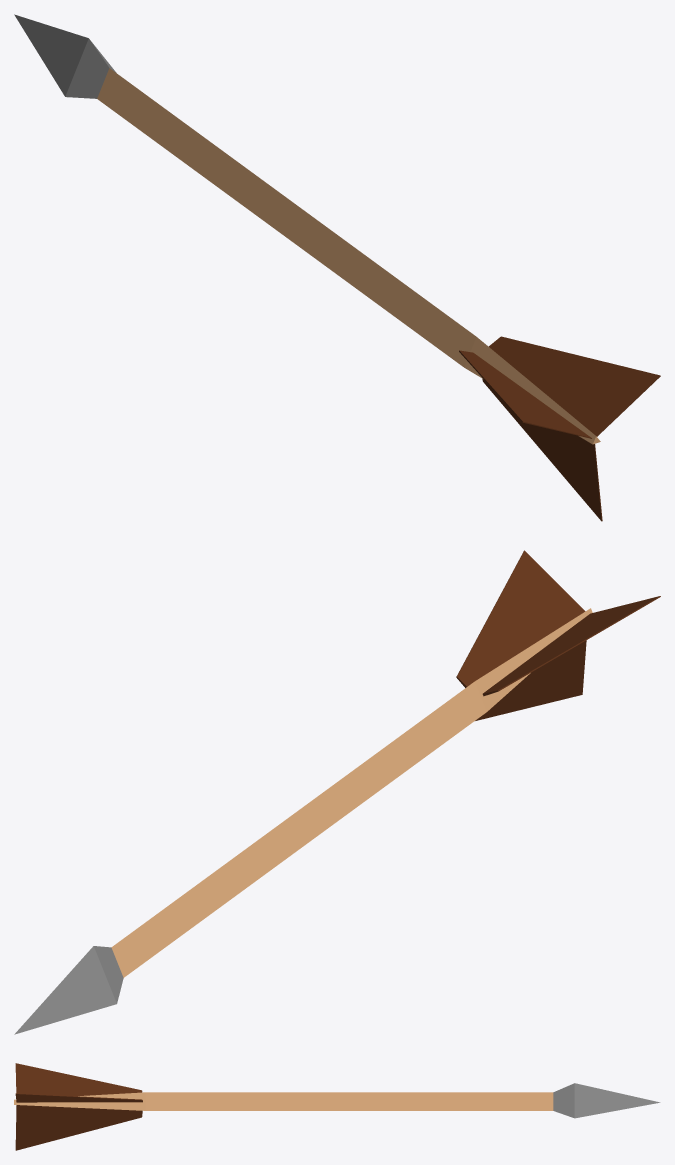
Rendered from Strela.fbx.
The picture shows the model from 3 angles, top to bottom: view 1: azimuth 30°, elevation 25°; view 2: azimuth 150°, elevation 25°; view 3: azimuth 270°, elevation 25°; orthographic projection. The views are drawn at different scales.
Visible parts, largest first — view 1: Arrow; view 2: Arrow; view 3: Arrow.
Boxes of the visible parts, x1,y1,x2,y2 form: Arrow: [14, 14, 660, 521]; Arrow: [14, 550, 660, 1034]; Arrow: [14, 1063, 660, 1150].
Size of the model in its own units: 28.48 by 25.91 by 208.
